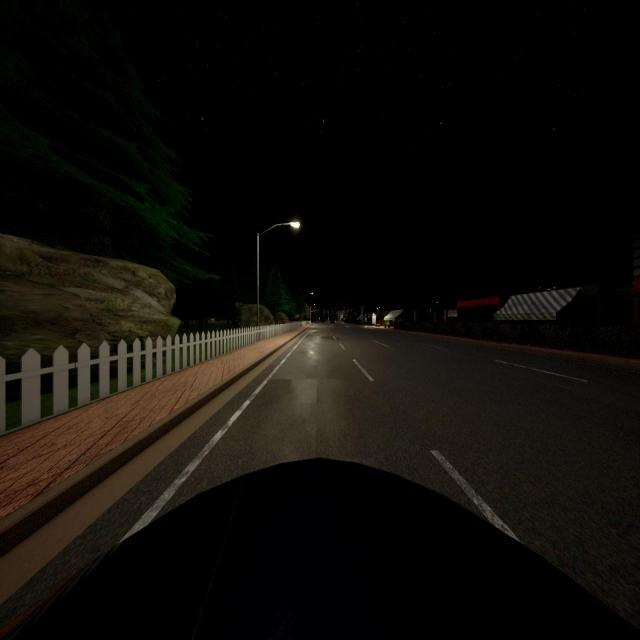Vehicle: (0, 459, 640, 640), (330, 318, 335, 325)
